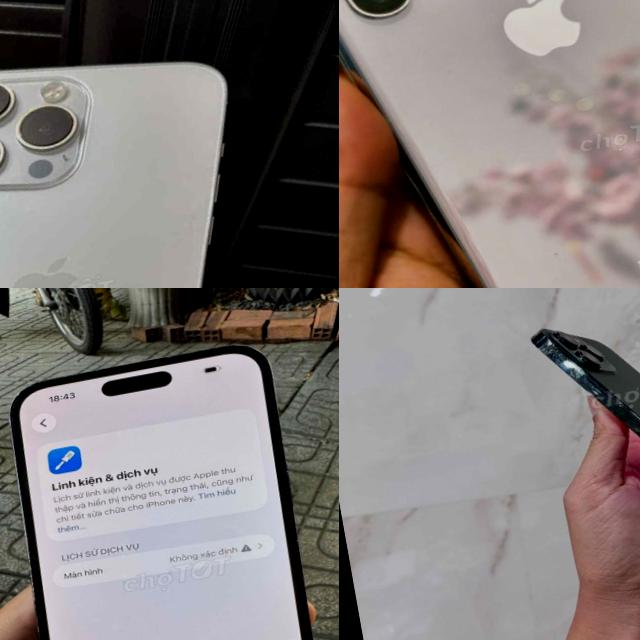gen_12_13: (518, 288, 640, 574)
gen_14: (0, 327, 339, 640), (0, 18, 318, 288)
gen_x_xs: (339, 0, 640, 288)
